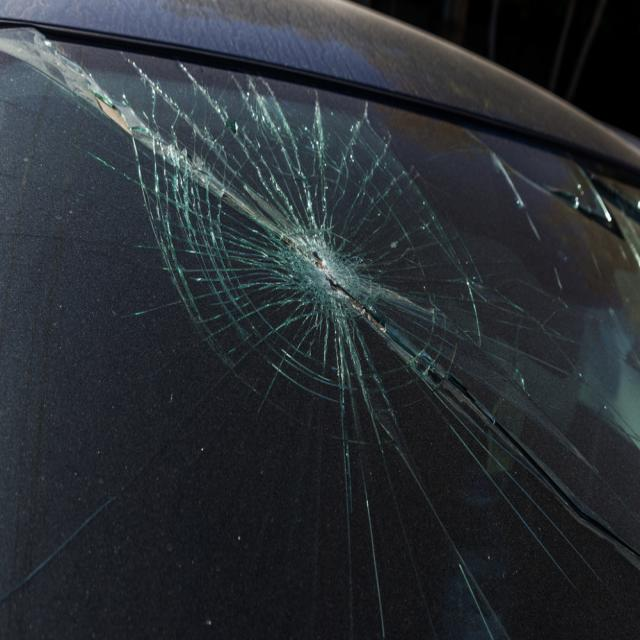Fissure: (116, 43, 530, 443), (342, 437, 640, 640), (0, 444, 159, 621), (0, 23, 119, 211), (535, 139, 640, 284), (533, 302, 640, 424)
